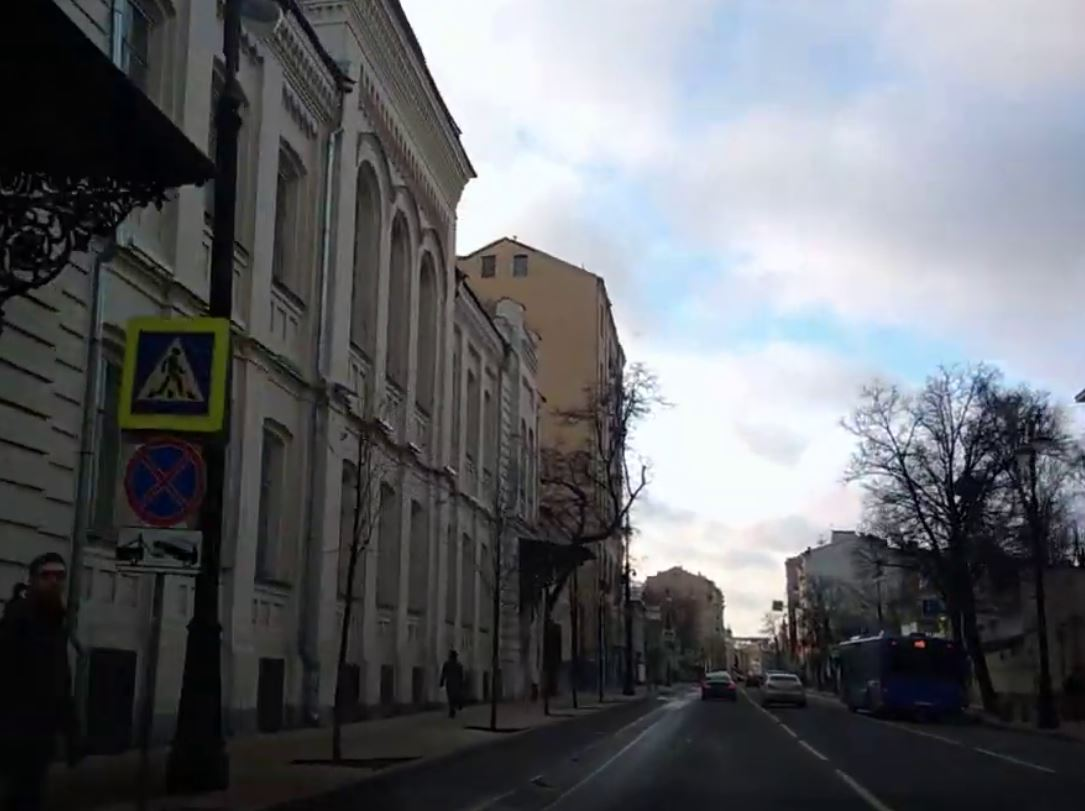Yaya Gecidi: (133, 329, 215, 419)
